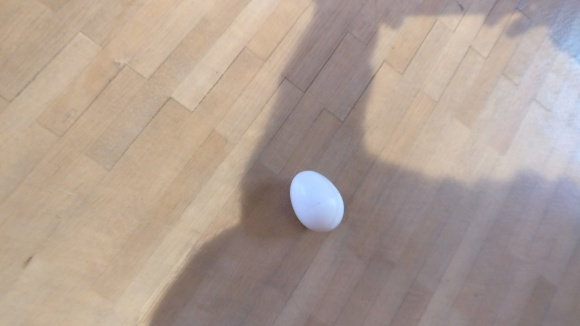egg: (290, 171, 345, 236)
